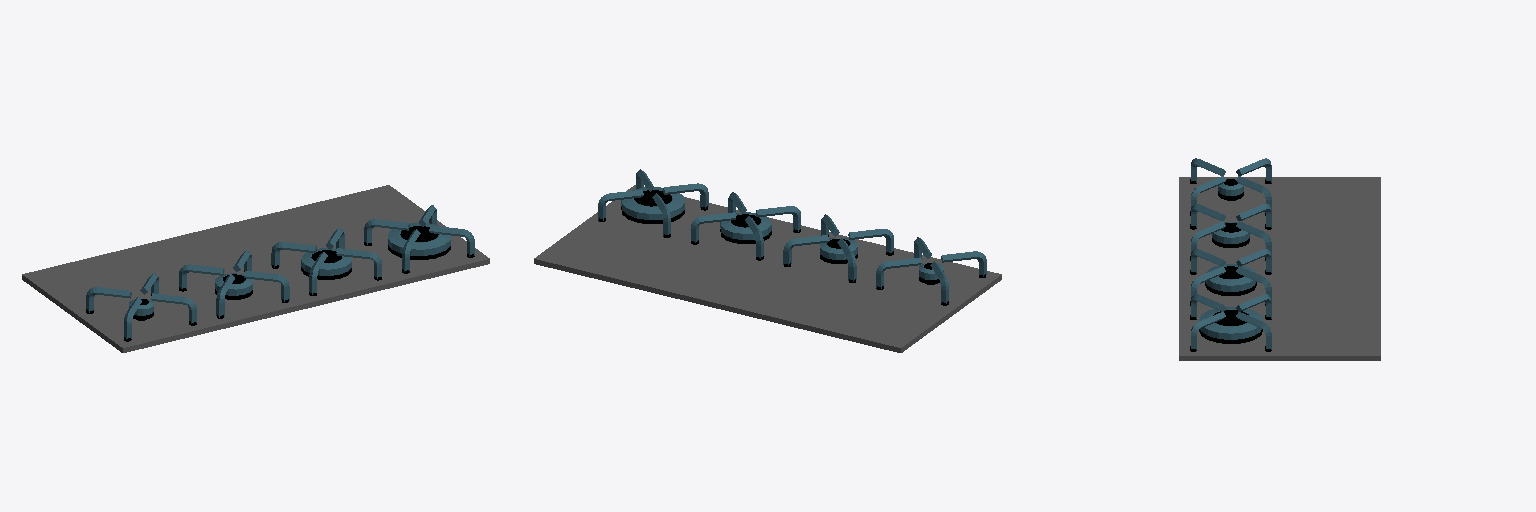
The model's file is cooker.obj.
3 views of the same model, side by side, from view 1: azimuth 30°, elevation 25°; view 2: azimuth 150°, elevation 25°; view 3: azimuth 270°, elevation 25° (orthographic).
Parts seen in each view (by area): view 1: cooker; view 2: cooker; view 3: cooker.
Part boxes in pixels (bbox=[...]): cooker: bbox=[22, 185, 489, 352]; cooker: bbox=[534, 169, 1001, 352]; cooker: bbox=[1179, 158, 1380, 360].
Bounding box in the file's own units: 76.02 × 6.24 × 36.23.